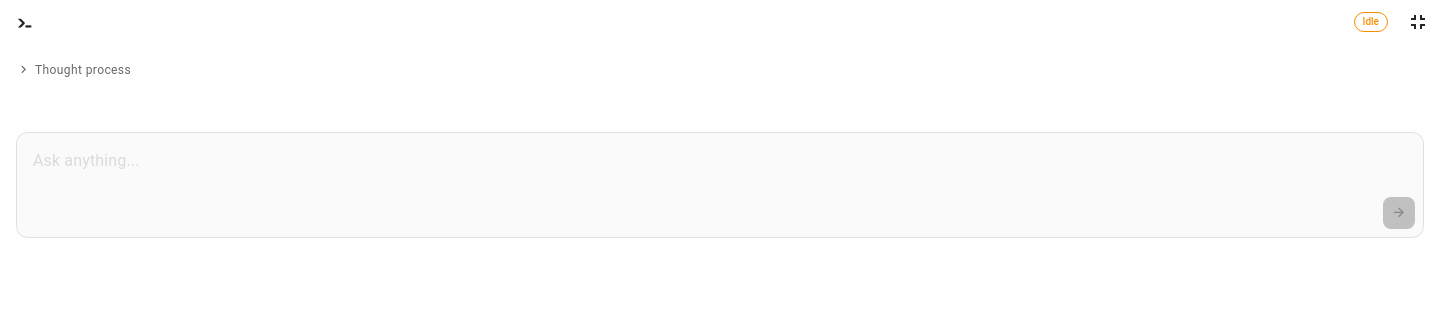
Test: InvestigationChat.vue › renders message even if only thought part exists
The image size is (1440, 309).
Check: the text "Only a thought here" is not shown
Click the button with class "cursor-pointer" at coordinates (74, 70), box [16,62,131,77]
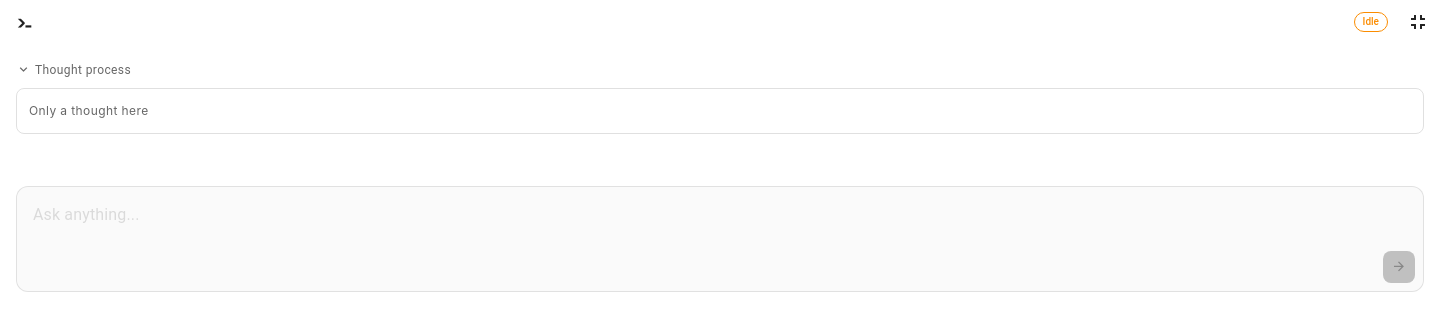
Check: the text "Only a thought here" is shown, box [16,88,1424,134]
